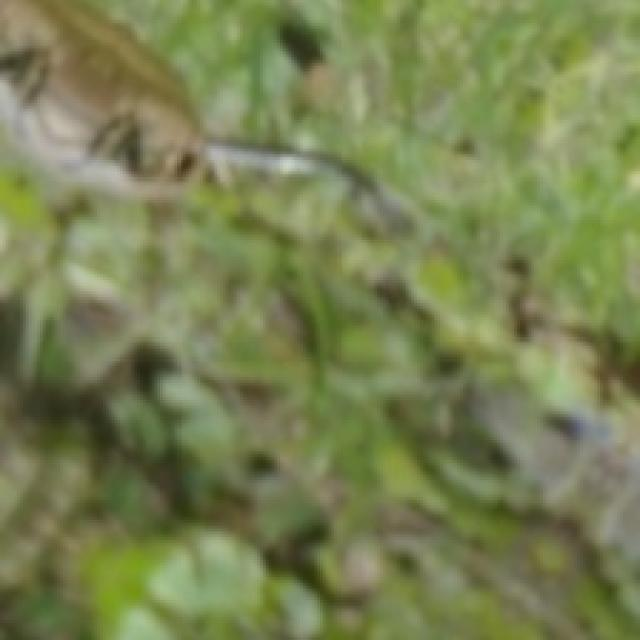king cobra: (0, 0, 409, 229)
